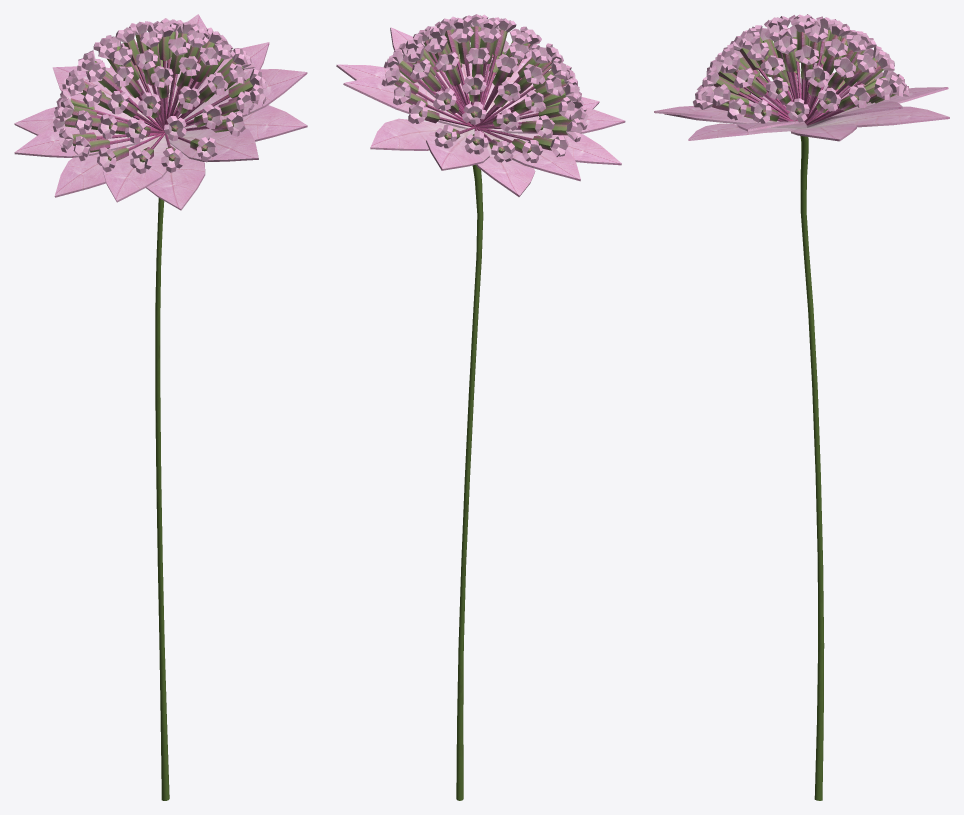
The model's file is SM_Astrante.fbx.
3 views of the same model, side by side, from view 1: azimuth 30°, elevation 25°; view 2: azimuth 150°, elevation 25°; view 3: azimuth 270°, elevation 25° (orthographic).
Parts seen in each view (by area): view 1: SM_Astrante; view 2: SM_Astrante; view 3: SM_Astrante.
Boxes of the visible parts, x1,y1,x2,y2 form: SM_Astrante: (14, 14, 307, 800); SM_Astrante: (336, 14, 625, 800); SM_Astrante: (654, 14, 949, 800).
Size of the model in its own units: 6.54 by 19.32 by 6.71.
